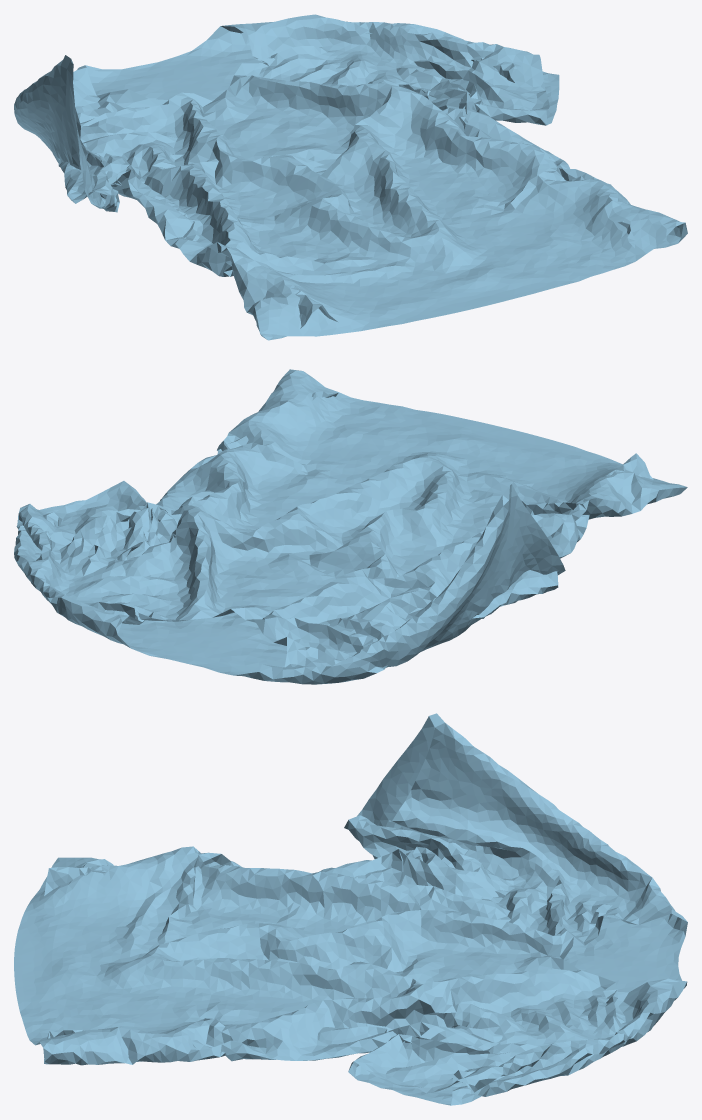
File: frame_07.glb
The picture shows the model from 3 angles, top to bottom: view 1: azimuth 30°, elevation 25°; view 2: azimuth 150°, elevation 25°; view 3: azimuth 270°, elevation 25°; orthographic projection. The views are drawn at different scales.
Parts seen in each view (by area): view 1: frame_07.obj; view 2: frame_07.obj; view 3: frame_07.obj.
Boxes of the visible parts, x1,y1,x2,y2 form: frame_07.obj: (14, 14, 687, 340); frame_07.obj: (14, 369, 687, 684); frame_07.obj: (14, 713, 687, 1105).
Bounding box in the file's own units: 1.55 × 0.4354 × 1.72.
